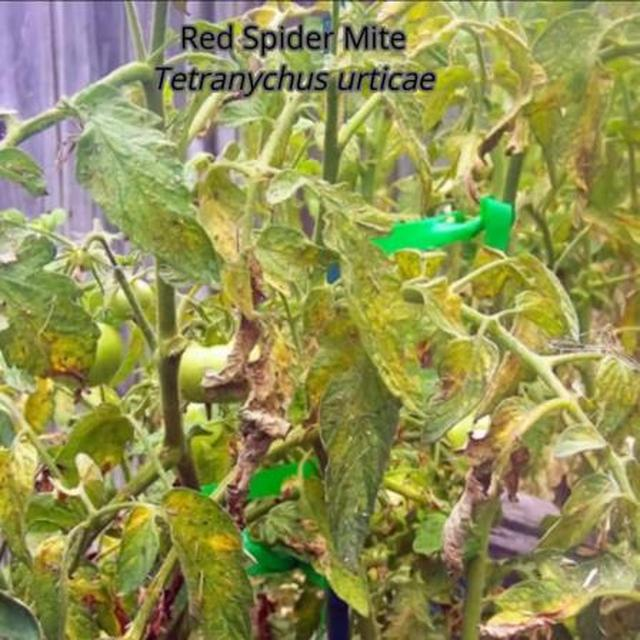Spider Mites Leaf: (72, 134, 640, 640)
